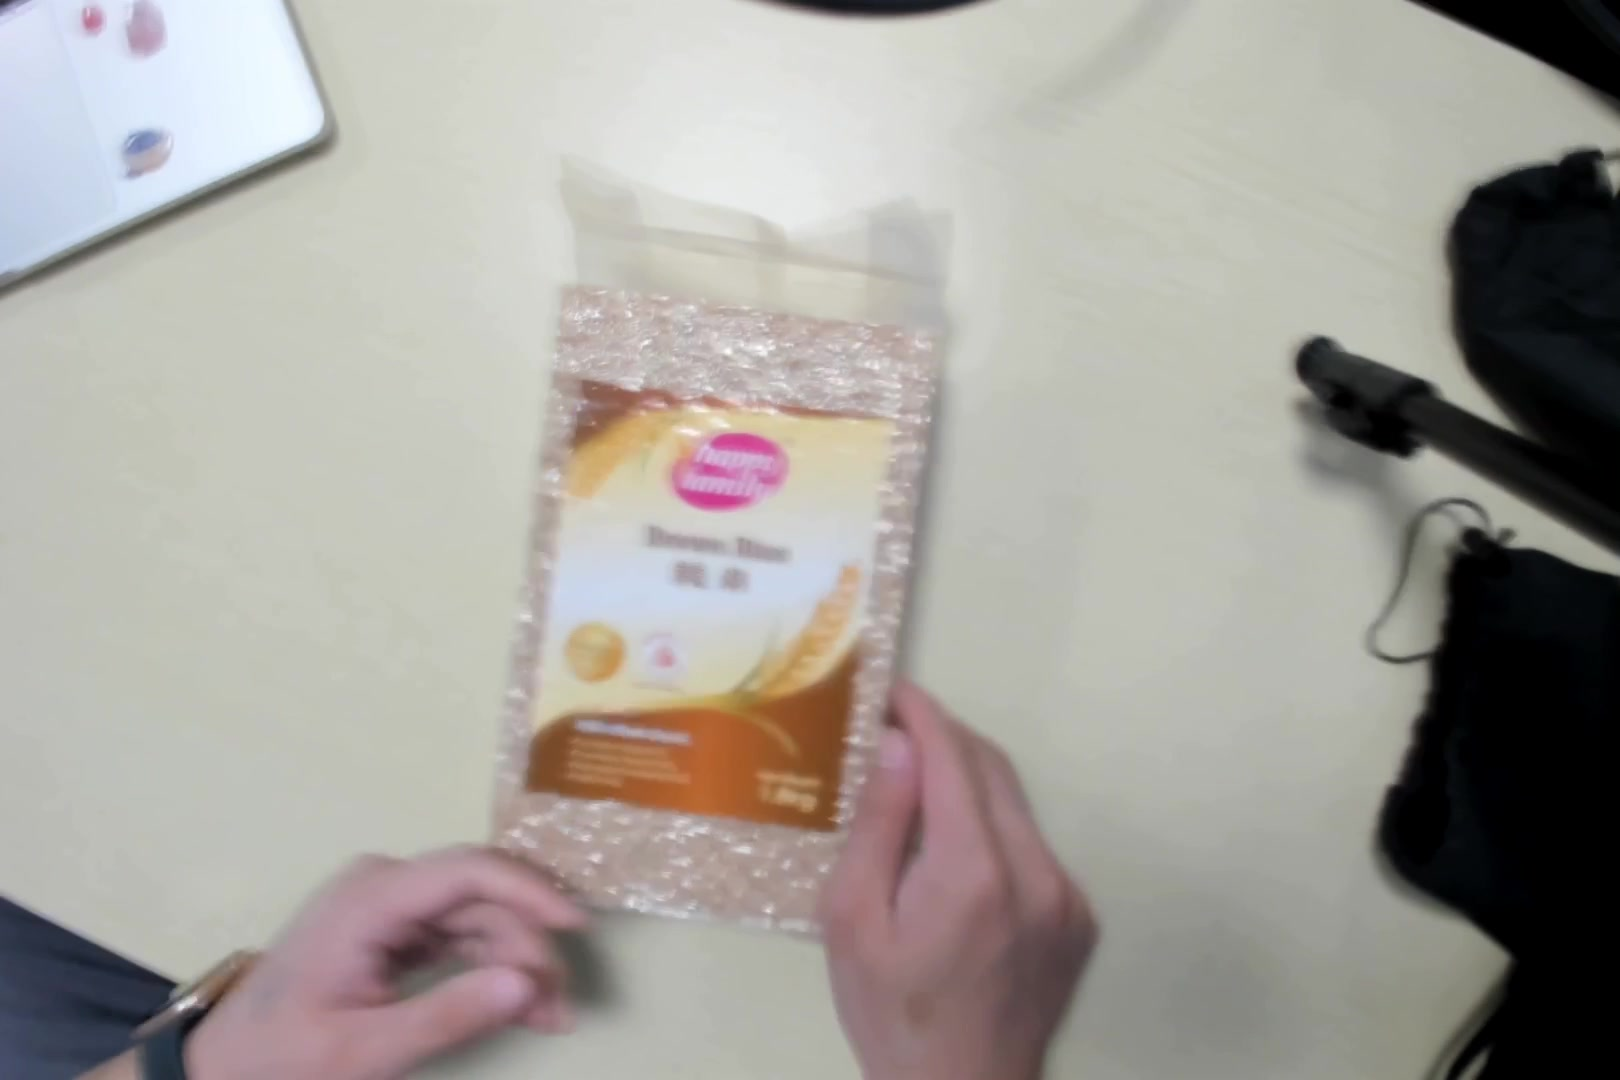Rice(BrownOthers)_1000-1999g_NonHalal_Healthy: (503, 171, 932, 932)
